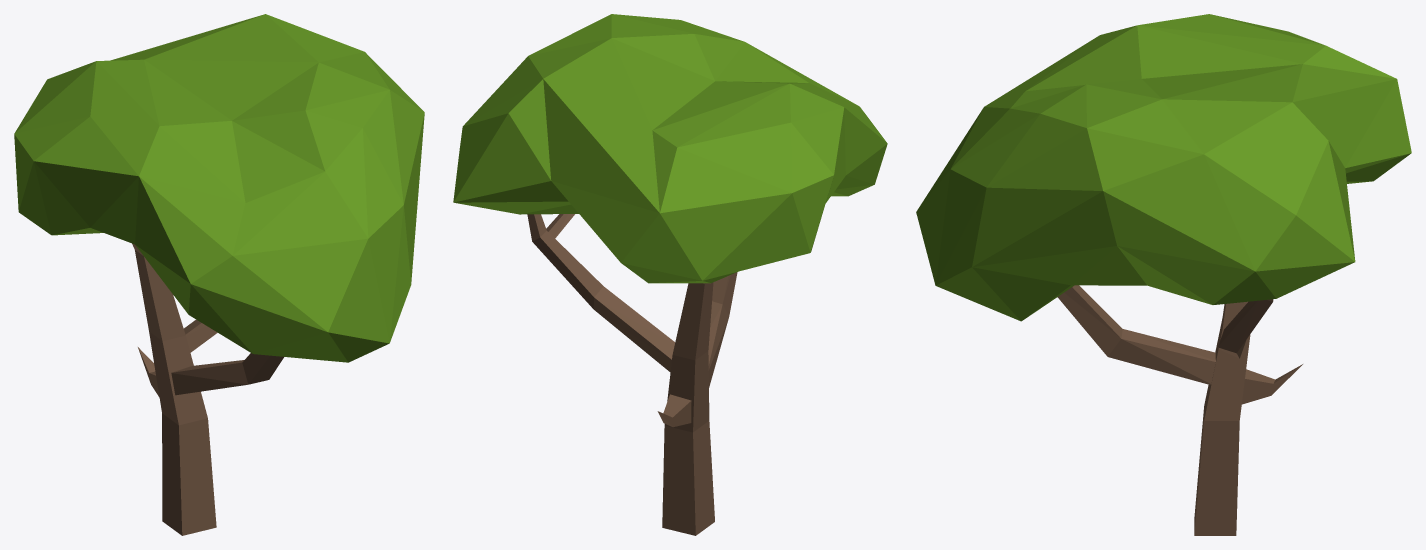
Rendered from tree_3.fbx.
The picture shows the model from 3 angles, left to right: view 1: azimuth 30°, elevation 25°; view 2: azimuth 150°, elevation 25°; view 3: azimuth 270°, elevation 25°; orthographic projection. The views are drawn at different scales.
Visible parts, largest first — view 1: tree_3; view 2: tree_3; view 3: tree_3.
Boxes of the visible parts, <box> form: tree_3: <box>14,14,424,535</box>; tree_3: <box>453,14,887,535</box>; tree_3: <box>916,14,1411,535</box>.
Size of the model in its own units: 574 by 680 by 632.
